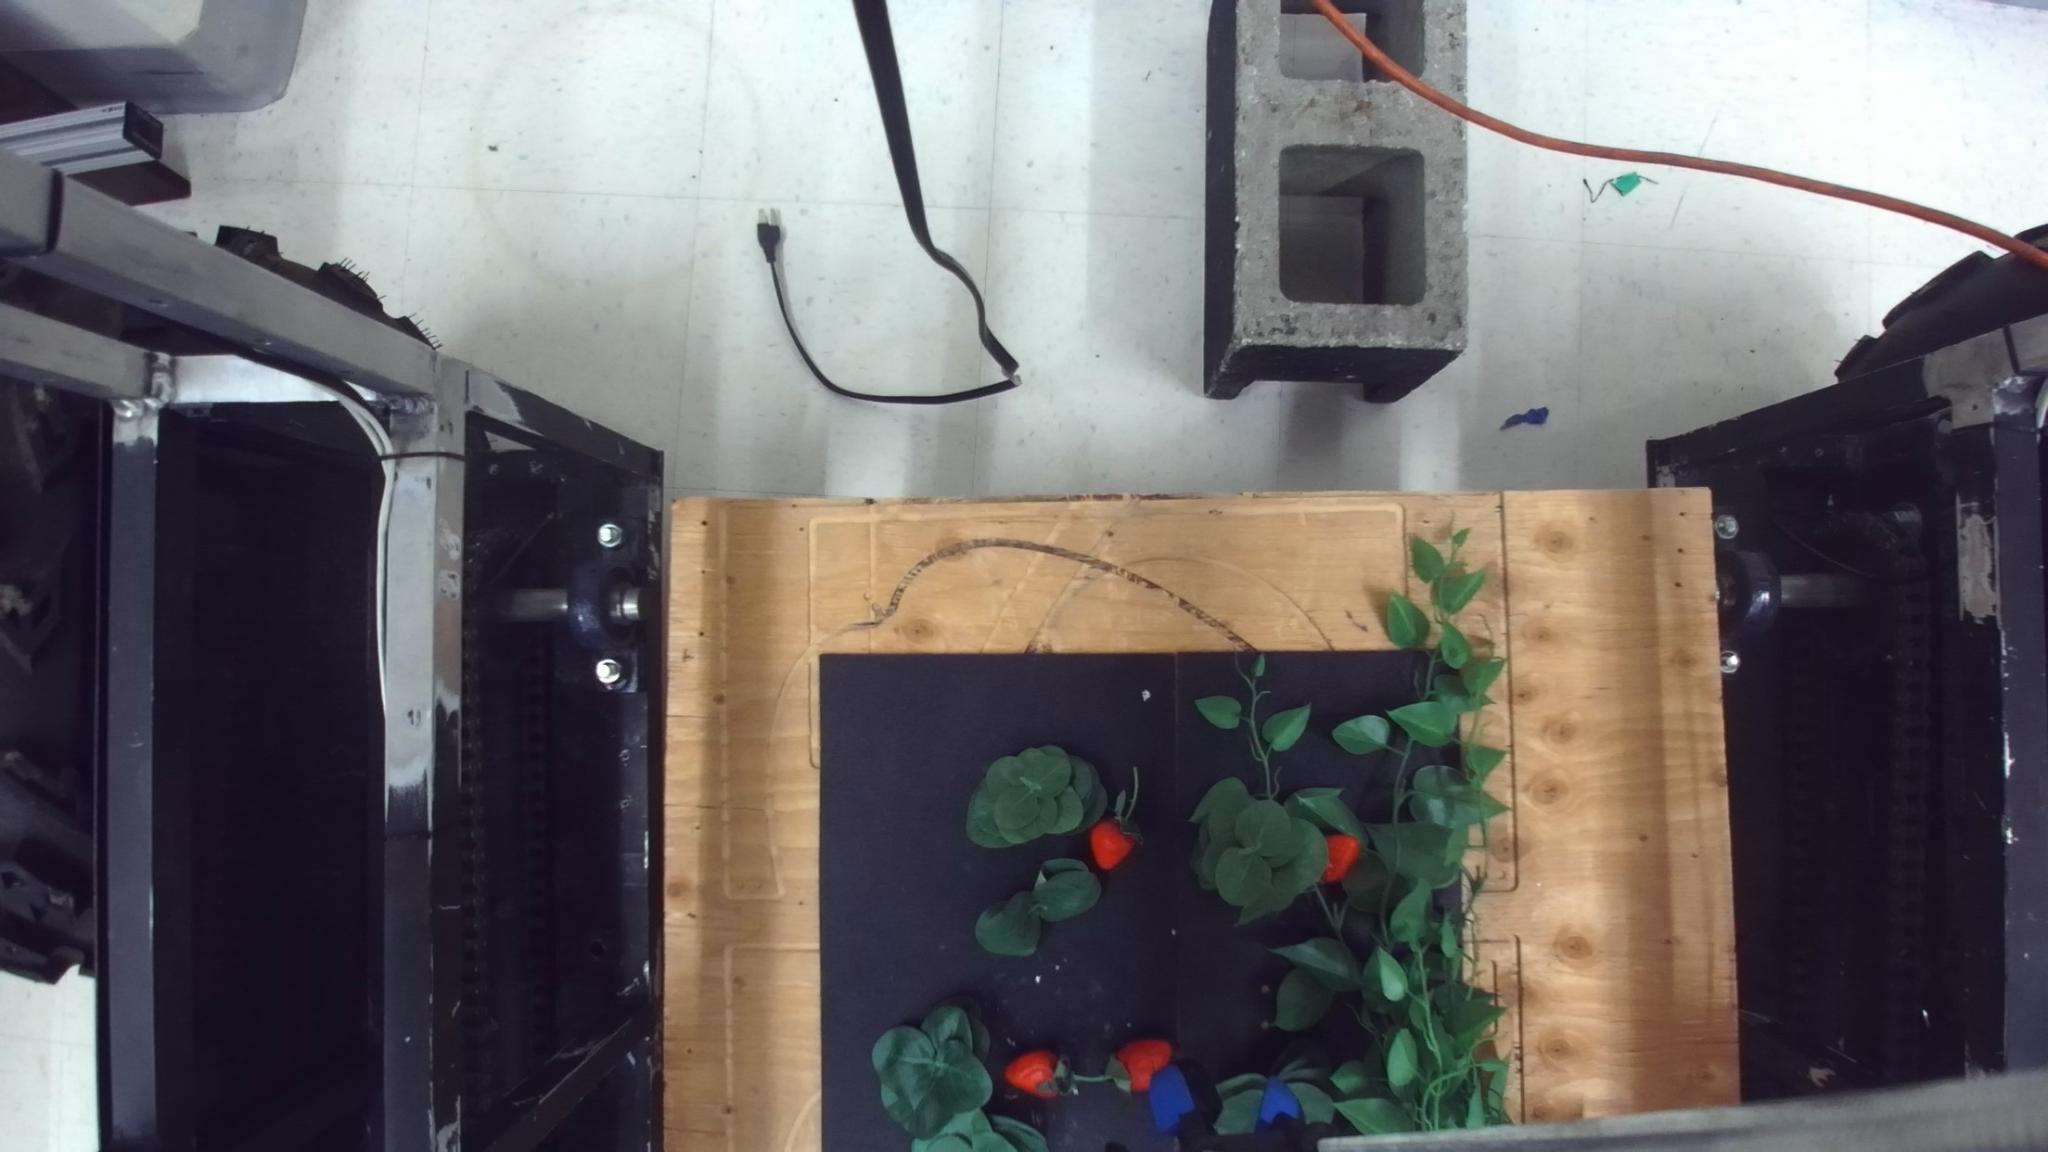strawberry: (1001, 1048, 1072, 1100), (1113, 1037, 1173, 1093), (1089, 814, 1139, 871), (1318, 831, 1360, 885)
